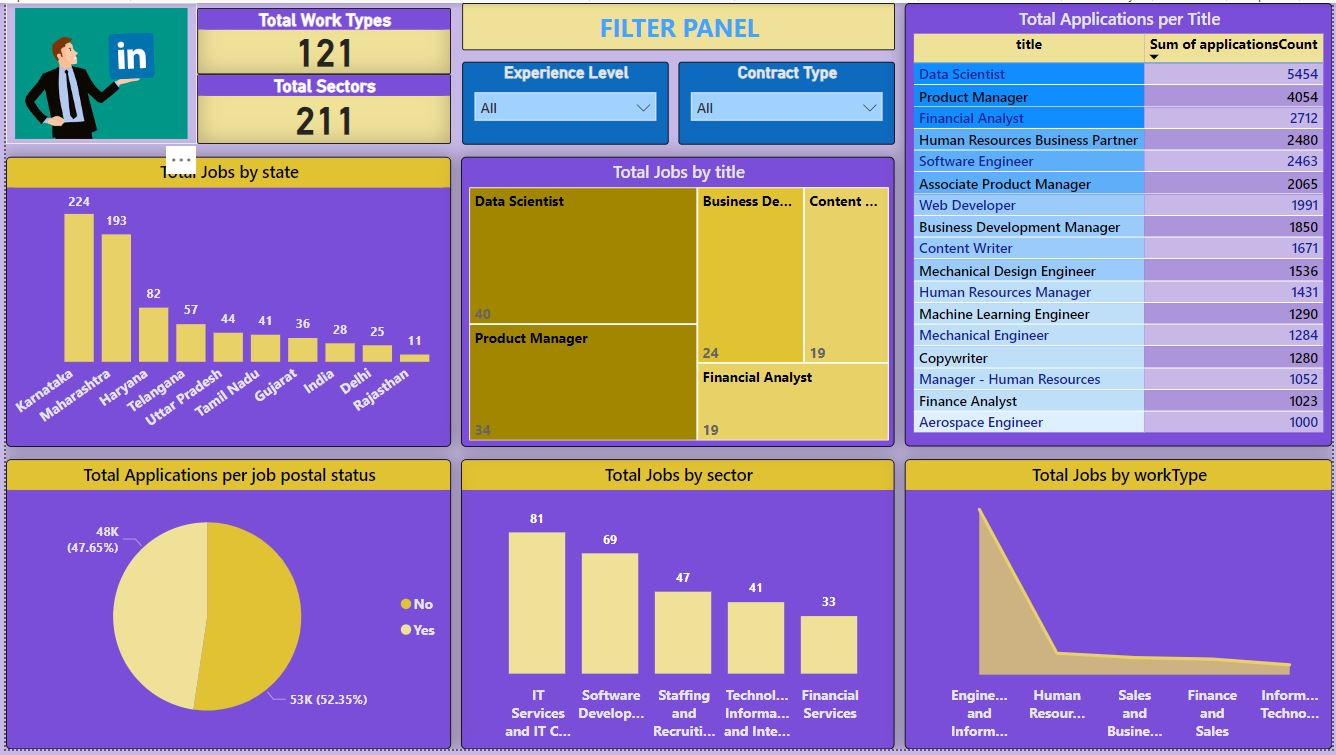

The dashboard page shown, as its layout file describes it:
{"tool":"powerbi","page":{"name":"Dashboard 2","canvas":[1280,720],"ordinal":1},"visuals":[{"type":"columnChart","fields":{"Category":["LinkedIn_Jobs_Data_India.state"],"Y":["LinkedIn_Jobs_Data_India.Total Jobs"]},"box":[0,148.4,429.5,279.9],"z":0},{"type":"columnChart","fields":{"Category":["LinkedIn_Jobs_Data_India.sector"],"Y":["LinkedIn_Jobs_Data_India.Total Jobs"]},"box":[439.1,440.5,418.5,279.9],"z":1000},{"type":"slicer","title":"Experience Level","fields":{"Values":["LinkedIn_Jobs_Data_India.experienceLevel"]},"box":[440.4,56.7,199.1,79.6],"z":2000},{"type":"slicer","title":"Contract Type","fields":{"Values":["LinkedIn_Jobs_Data_India.contractType"]},"box":[649.1,56.7,208.7,79.6],"z":3000},{"type":"treemap","fields":{"Group":["LinkedIn_Jobs_Data_India.title"],"Values":["LinkedIn_Jobs_Data_India.Total Jobs"]},"box":[439.1,148.4,418.6,279.9],"z":4000},{"type":"tableEx","title":"Total Applications per Title","fields":{"Values":["LinkedIn_Jobs_Data_India.title","Sum(LinkedIn_Jobs_Data_India.applicationsCount)"]},"box":[867.2,0,413,428.1],"z":5000},{"type":"stackedAreaChart","fields":{"Category":["LinkedIn_Jobs_Data_India.workType"],"Y":["LinkedIn_Jobs_Data_India.Total Jobs"]},"box":[867.4,440.4,412.6,279.9],"z":6000},{"type":"textbox","box":[440.4,0,417.4,45.8],"z":7000},{"type":"pieChart","title":"Total Applications per job postal status","fields":{"Category":["LinkedIn_Jobs_Data_India.recently_posted_jobs"],"Y":["Sum(LinkedIn_Jobs_Data_India.applicationsCount)"]},"box":[0,440.4,429.5,279.9],"z":8000},{"type":"image","box":[0,0,184.6,136.3],"z":9001},{"type":"card","title":"Total Work Types","fields":{"Values":["Count(LinkedIn_Jobs_Data_India.workType)"]},"box":[184.6,4.8,244.9,63.9],"z":9002},{"type":"card","title":"Total Sectors","fields":{"Values":["Count(LinkedIn_Jobs_Data_India.sector)"]},"box":[184.6,68.8,244.9,67.6],"z":9003}]}

Visuals, with their boxes in screenshot pixels (x1, y1, x2, y2), scaled from the page's 1280x720 canvas onto the 1336x755 screenshot:
columnChart - LinkedIn_Jobs_Data_India.state x LinkedIn_Jobs_Data_India.Total Jobs: pyautogui.locateOnScreen(0, 156, 448, 449)
columnChart - LinkedIn_Jobs_Data_India.sector x LinkedIn_Jobs_Data_India.Total Jobs: pyautogui.locateOnScreen(458, 462, 895, 754)
"Experience Level" slicer: pyautogui.locateOnScreen(460, 59, 667, 143)
"Contract Type" slicer: pyautogui.locateOnScreen(677, 59, 895, 143)
treemap - LinkedIn_Jobs_Data_India.title x LinkedIn_Jobs_Data_India.Total Jobs: pyautogui.locateOnScreen(458, 156, 895, 449)
"Total Applications per Title" tableEx: pyautogui.locateOnScreen(905, 0, 1335, 449)
stackedAreaChart - LinkedIn_Jobs_Data_India.workType x LinkedIn_Jobs_Data_India.Total Jobs: pyautogui.locateOnScreen(905, 462, 1335, 754)
textbox: pyautogui.locateOnScreen(460, 0, 895, 48)
"Total Applications per job postal status" pieChart: pyautogui.locateOnScreen(0, 462, 448, 754)
image: pyautogui.locateOnScreen(0, 0, 193, 143)
"Total Work Types" card: pyautogui.locateOnScreen(193, 5, 448, 72)
"Total Sectors" card: pyautogui.locateOnScreen(193, 72, 448, 143)
